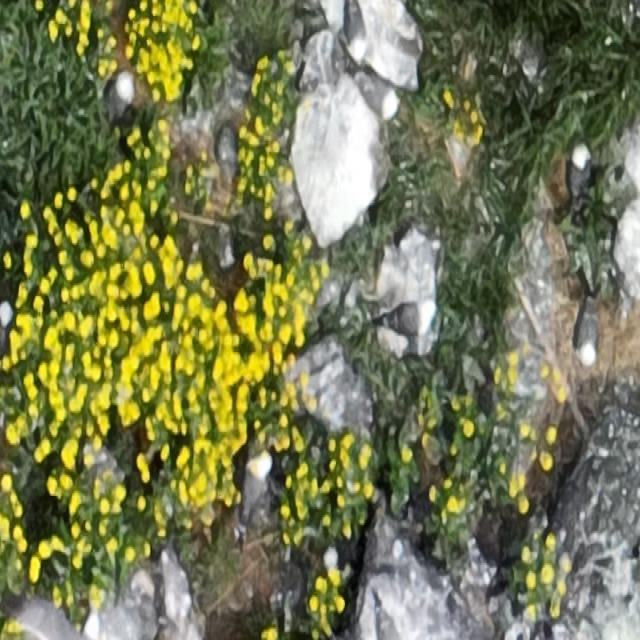F: (240, 454, 273, 528)
umineko: (381, 298, 438, 340), (576, 284, 600, 366), (358, 74, 397, 116), (346, 2, 367, 59), (110, 74, 135, 119), (569, 149, 590, 198)
